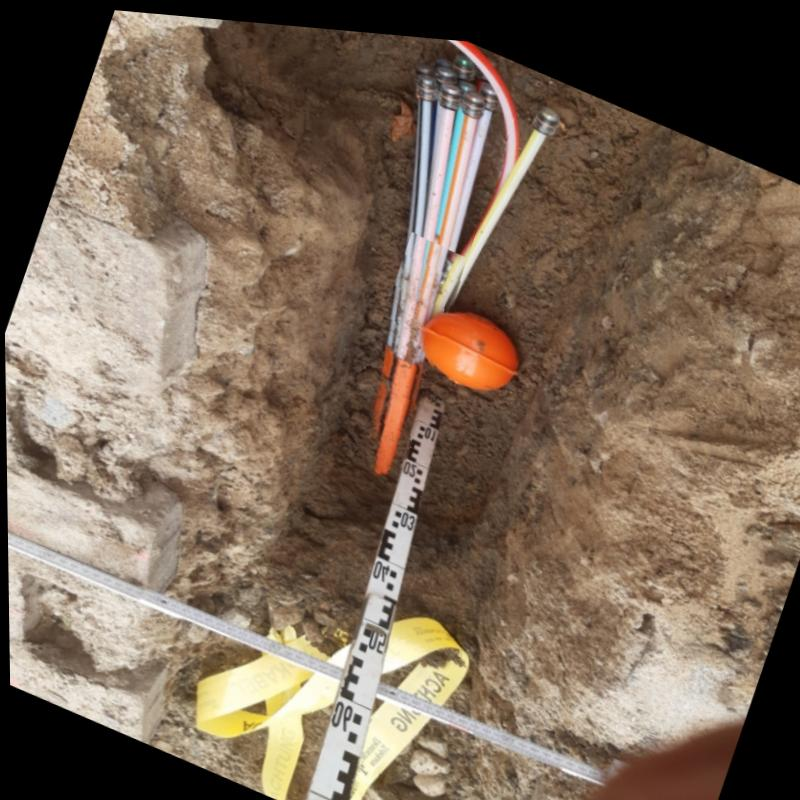Kugelmarker: (426, 305, 515, 381)
Orang-Speednetrohrchen: (367, 224, 467, 467)
